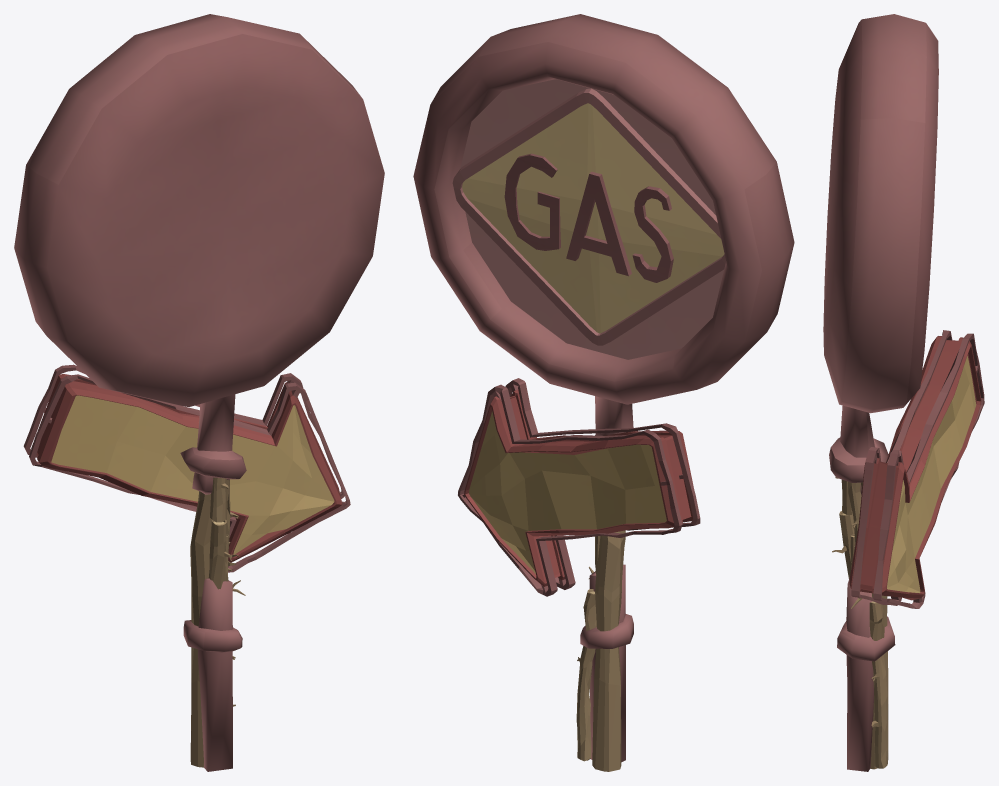
File: big_gas_sign_1.glb
3 renders of one model, left to right at view 1: azimuth 30°, elevation 25°; view 2: azimuth 150°, elevation 25°; view 3: azimuth 270°, elevation 25°, orthographic. The views are drawn at different scales.
Visible parts, largest first — view 1: gas_lolipop, gas_arrow, gas_arrow_neon; view 2: gas_lolipop, gas_arrow, gas_arrow_neon; view 3: gas_lolipop, gas_arrow, gas_arrow_neon.
Part boxes in pixels (box(x1,y1,x2,y2)): gas_lolipop: box(14, 14, 384, 771); gas_arrow: box(31, 374, 342, 562); gas_arrow_neon: box(23, 364, 350, 572); gas_lolipop: box(413, 14, 794, 771); gas_arrow: box(464, 389, 693, 586); gas_arrow_neon: box(458, 378, 700, 596); gas_lolipop: box(823, 14, 938, 771); gas_arrow: box(849, 336, 981, 600); gas_arrow_neon: box(851, 330, 984, 608).
Size of the model in its own units: 3.96 by 7.85 by 1.57.
Materials: 1 (1 with a texture image).
